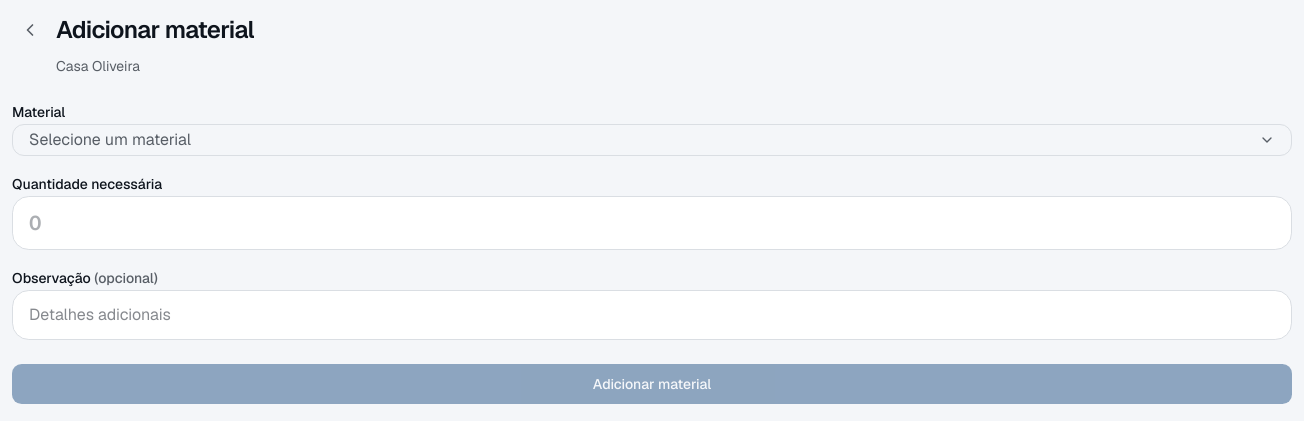
Scenario: RequirementForm — SUPPLY-FRONTEND-01B §48 (RF1-RF16) › RF2: a Material already used in this Obra is excluded from the create selector
Click the dropdown: (110, 140) [12,124,1292,156]
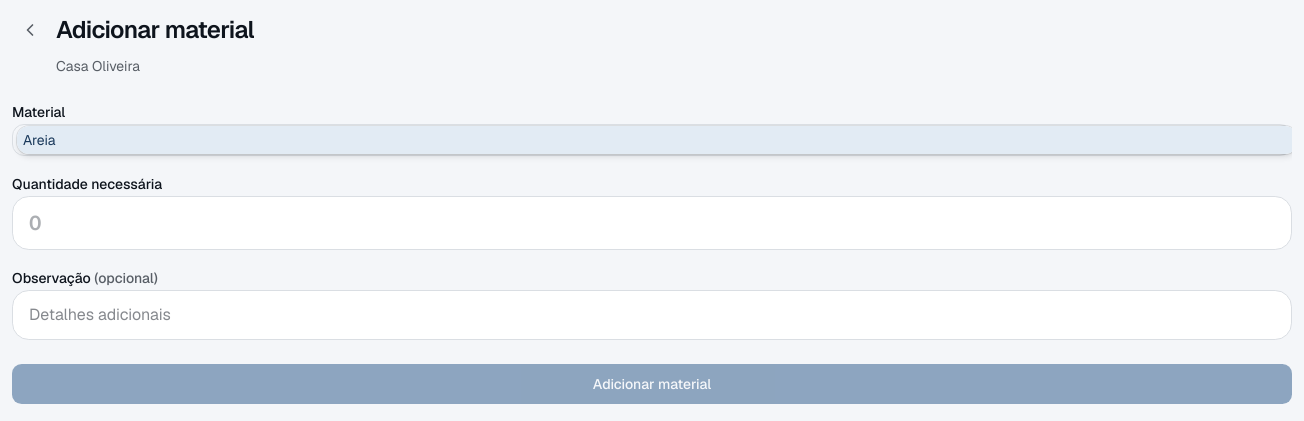
Expected: the text "Areia" is shown, [23,131,56,149]
